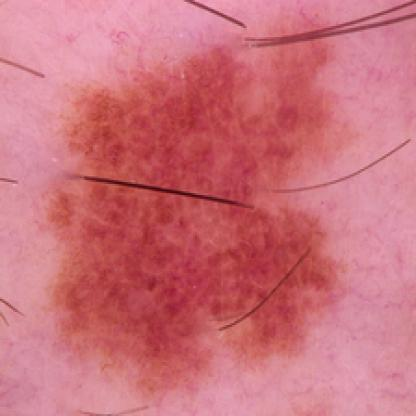benign: (43, 60, 338, 349)
